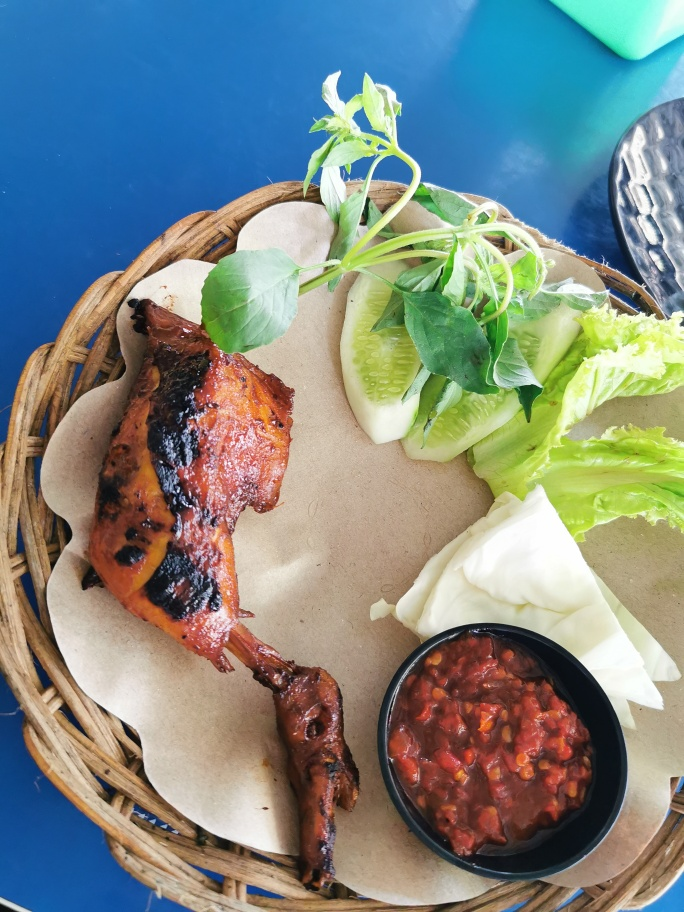ayam bakar: (94, 289, 381, 886)
